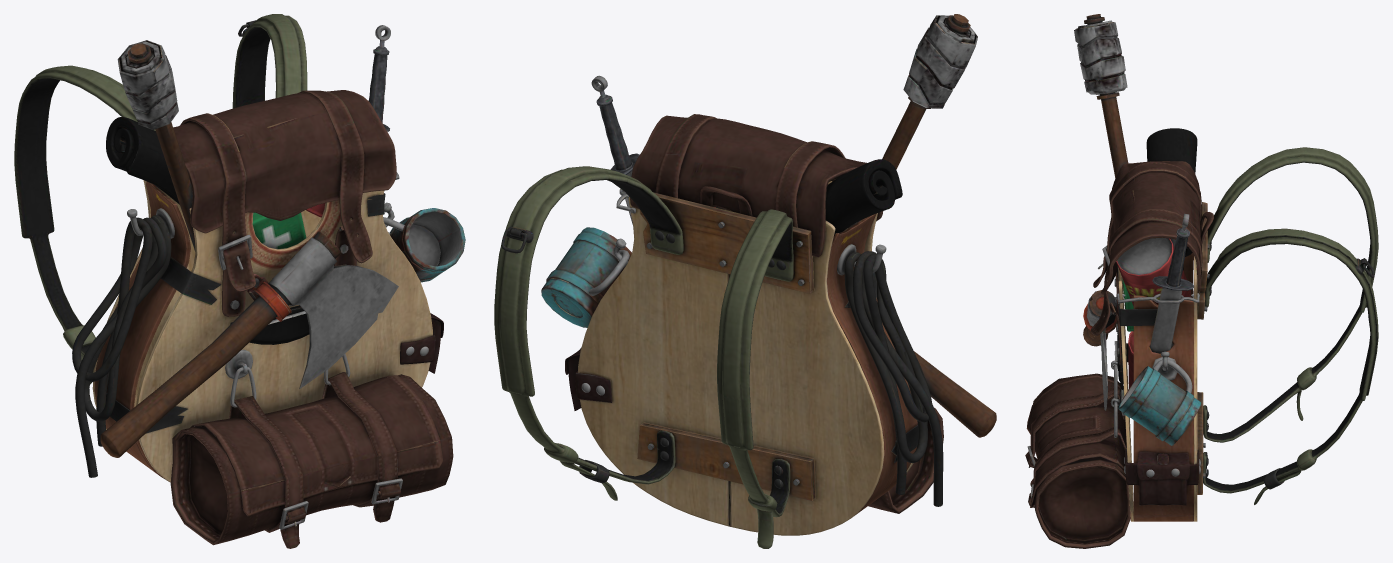
Rendered from survival_guitar_backpack.obj.
The picture shows the model from 3 angles, left to right: view 1: azimuth 30°, elevation 25°; view 2: azimuth 150°, elevation 25°; view 3: azimuth 270°, elevation 25°; orthographic projection. The views are drawn at different scales.
Visible parts, largest first — view 1: Cylinder030__0, Plane008__0, Plane011__0, Cube050__0, Plane014__0, Cube037__0, BezierCurve003__0, Cylinder031__0, Cylinder033__0, Plane009__0, Cube051__0, Cylinder049__0 (+13 smaller); view 2: Plane010__0, Cube051__0, Plane011__0, Cube050__0, BezierCurve003__0, Cube030__0, Plane009__0, Cube032__0, Cylinder049__0, Cylinder034__0, Cube047__0, Plane014__0 (+5 smaller); view 3: Cylinder030__0, Cube050__0, Cube051__0, Plane009__0, Plane011__0, Cylinder049__0, Plane014__0, Cylinder034__0, Cylinder035__0, Cylinder032__0, Cylinder031__0, Cube053__0 (+10 smaller).
Part boxes in pixels (x1,y1,x2,y2): Cylinder030__0: (170,374,453,545); Plane008__0: (136,190,432,482); Plane011__0: (173,90,396,233); Cube050__0: (14,65,155,384); Plane014__0: (180,90,372,316); Cube037__0: (268,237,398,388); BezierCurve003__0: (72,215,171,477); Cylinder031__0: (228,372,400,548); Cylinder033__0: (100,231,341,457); Plane009__0: (94,181,190,479); Cube051__0: (232,14,307,108); Cylinder049__0: (383,208,465,282); Plane010__0: (578,196,884,535); Cube051__0: (494,166,683,500); Plane011__0: (630,115,883,257); Cube050__0: (717,209,793,548); BezierCurve003__0: (844,251,943,506); Cube030__0: (639,192,814,293); Plane009__0: (827,213,917,515); Cube032__0: (637,422,815,500); Cylinder049__0: (541,227,631,327); Cylinder034__0: (903,15,977,108); Cube047__0: (825,159,902,235); Plane014__0: (655,114,845,227); Cylinder030__0: (1026,373,1130,548); Cube050__0: (1203,147,1378,442); Cube051__0: (1203,228,1378,504); Plane009__0: (1133,252,1193,521); Plane011__0: (1101,161,1200,294); Cylinder049__0: (1118,359,1201,445); Plane014__0: (1090,161,1202,364); Cylinder034__0: (1074,20,1127,94); Cylinder035__0: (1116,237,1190,305); Cylinder032__0: (1150,213,1194,353); Cylinder031__0: (1025,388,1126,507); Cube053__0: (1125,449,1199,505).
Size of the model in its own units: 416 by 515 by 386.
Materials: 1 (1 with a texture image).
